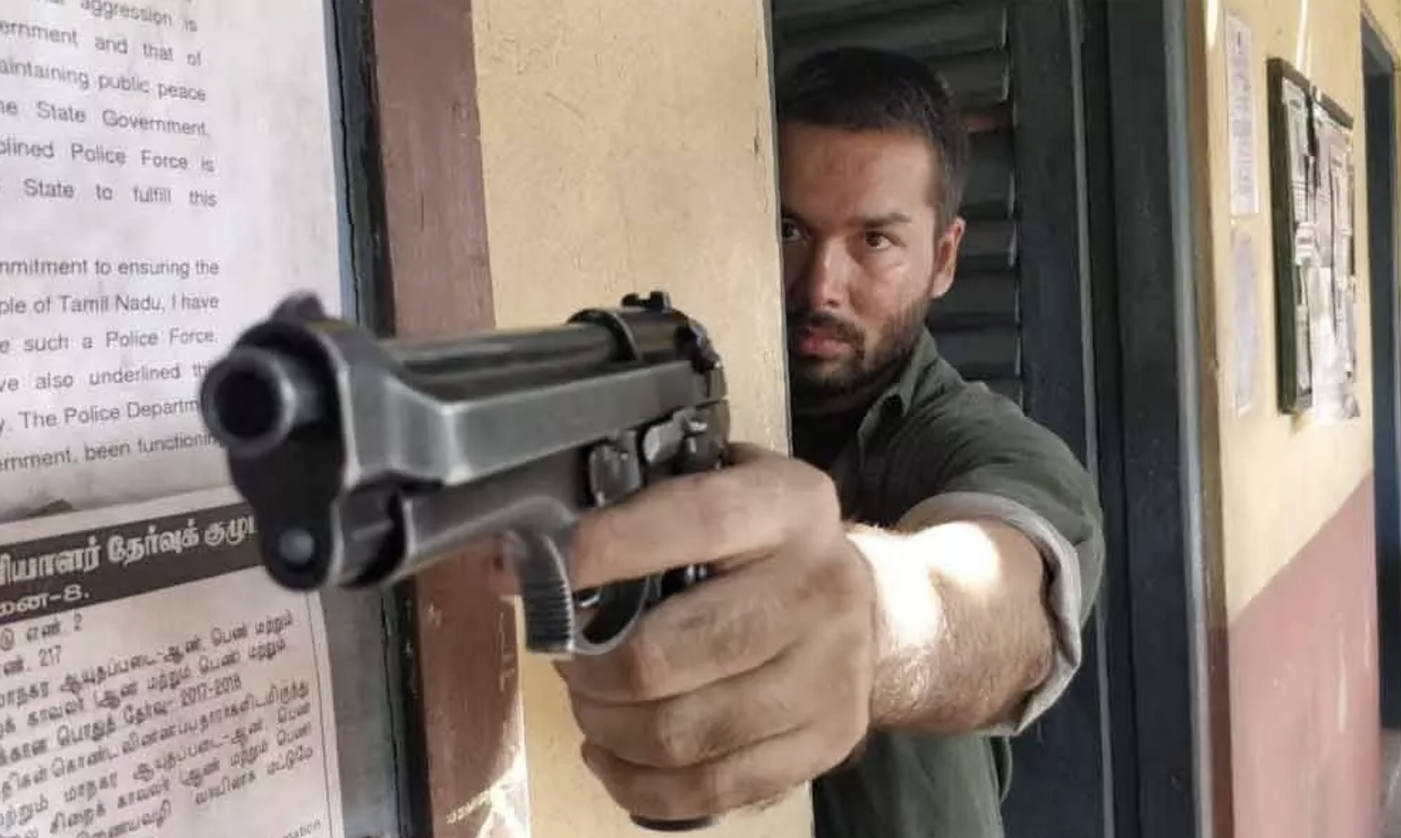gun_019: (178, 273, 771, 837)
